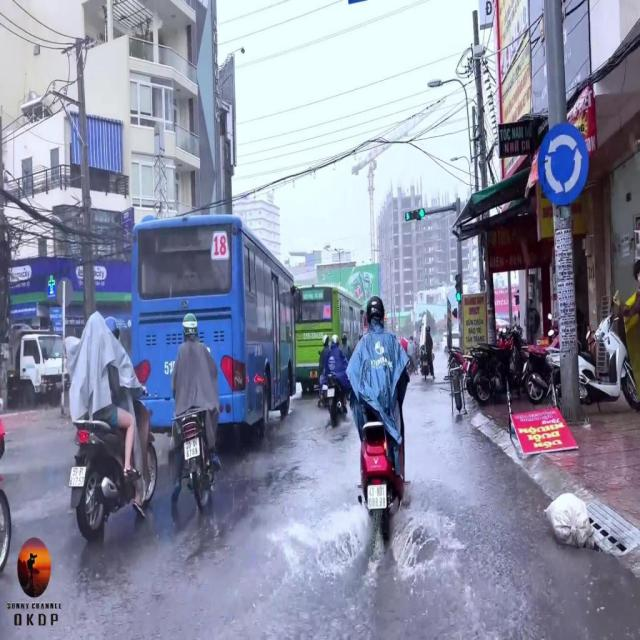noi_giao_nhau_chay_theo_vong: (536, 120, 590, 208)
